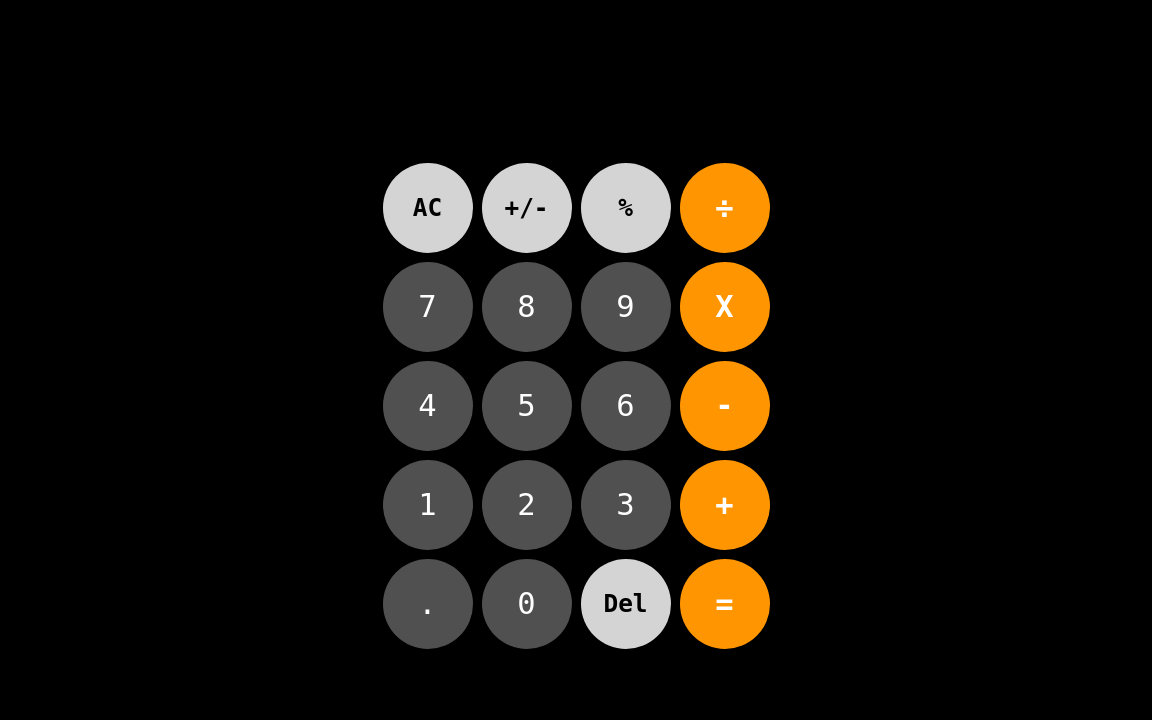
Test: using calculator buttons as inputs › should accurately perform '10 del'
Click the button "1". click: (428, 505)
box: [382,460,472,550]
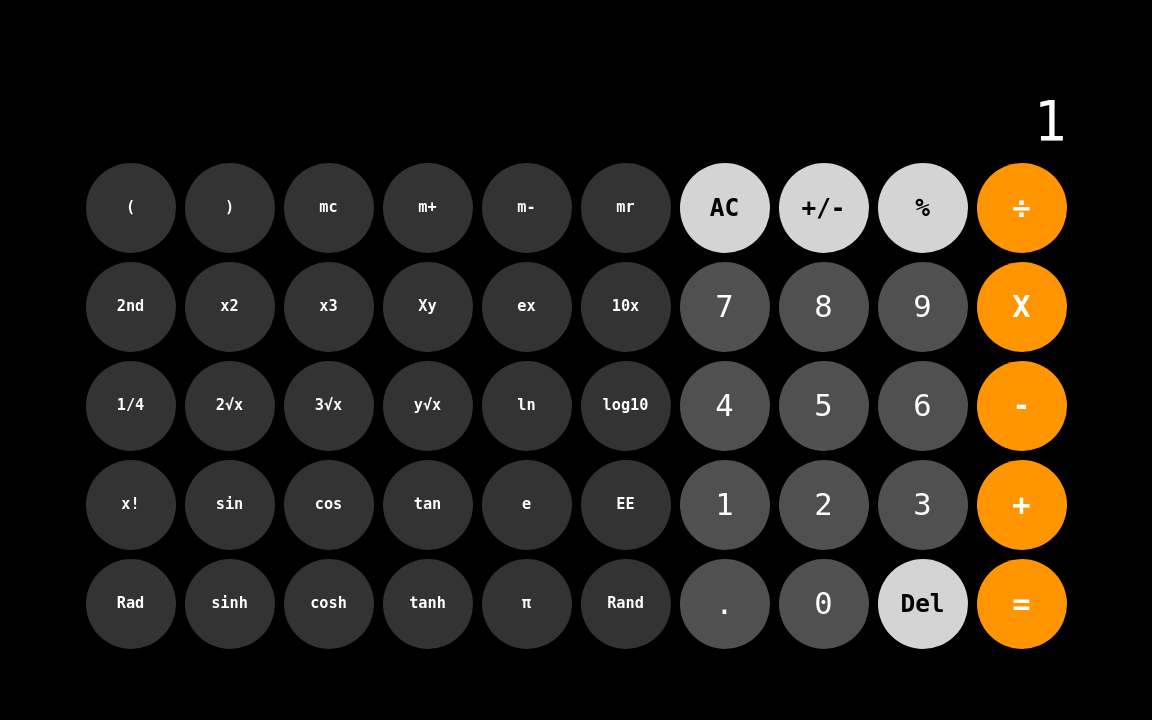
Click the button "0". click: (824, 604)
box: [778,559,868,649]
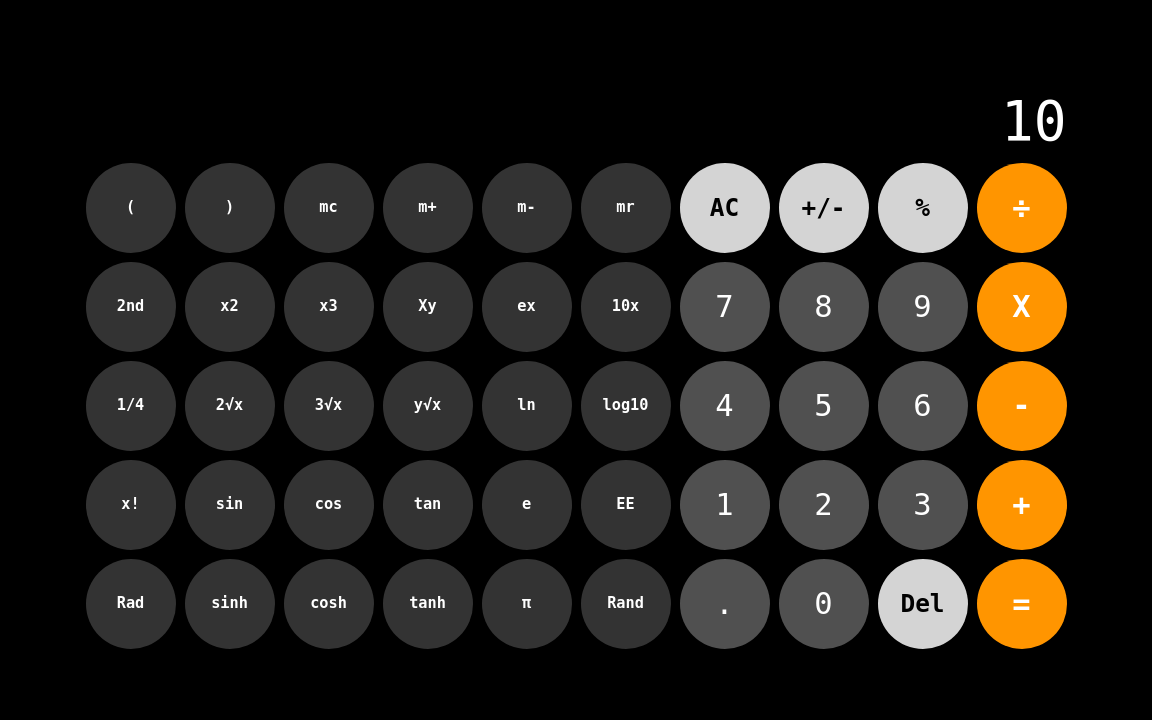
Click the button "Del". click: (922, 604)
box: [878,559,968,649]
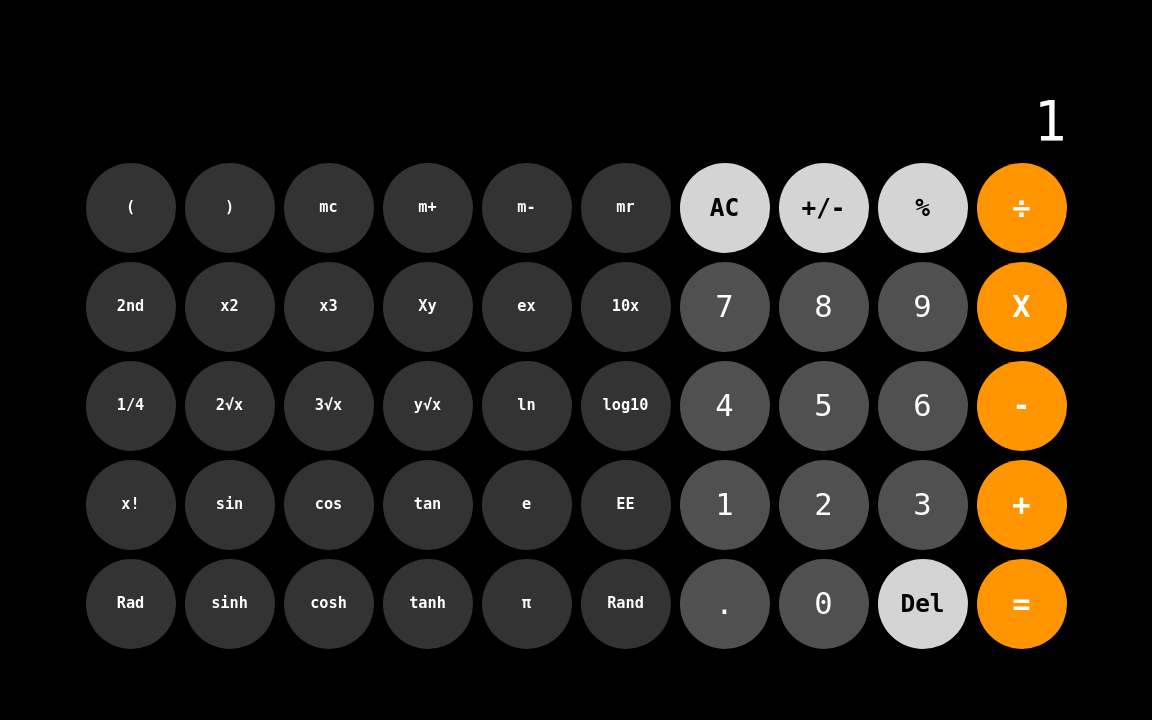
Expected: the heading with test id "answer-output" reads "1", [1034,89,1066,153]
